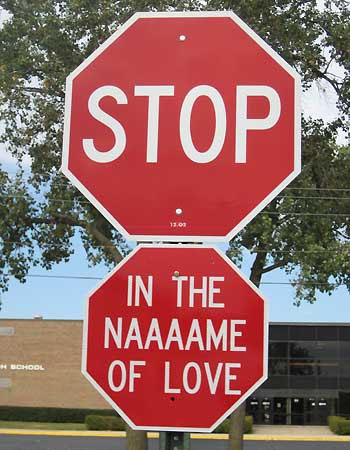stopsign: (61, 11, 303, 241)
